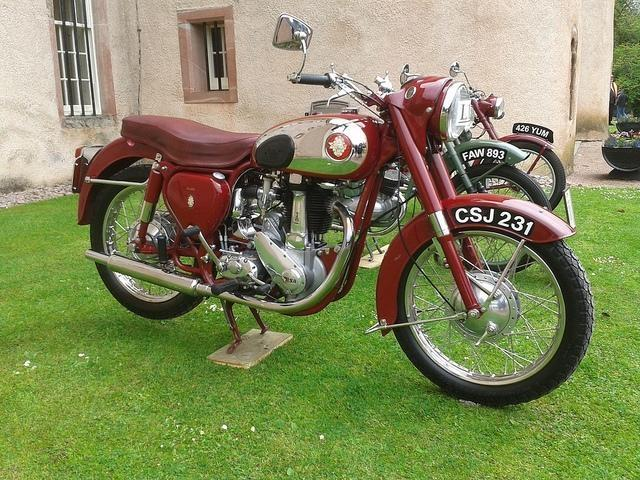motorcycle: (70, 17, 594, 407), (451, 134, 558, 211)
